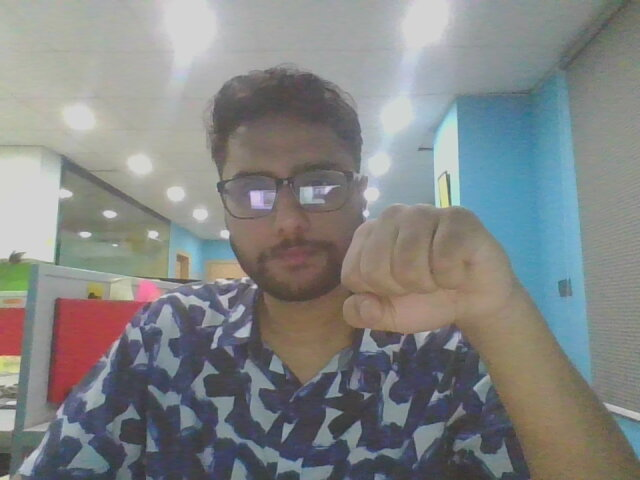yes: (339, 202, 537, 357)
